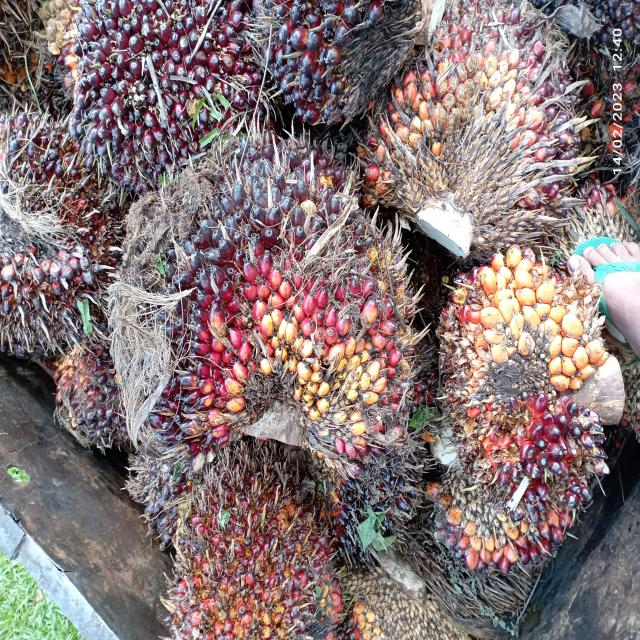fraksi 00: (144, 126, 438, 515), (54, 0, 272, 176), (316, 408, 423, 575), (36, 328, 131, 472)
fraksi 1: (430, 236, 638, 540), (358, 0, 588, 232)
fraksi 3: (117, 461, 353, 640)
